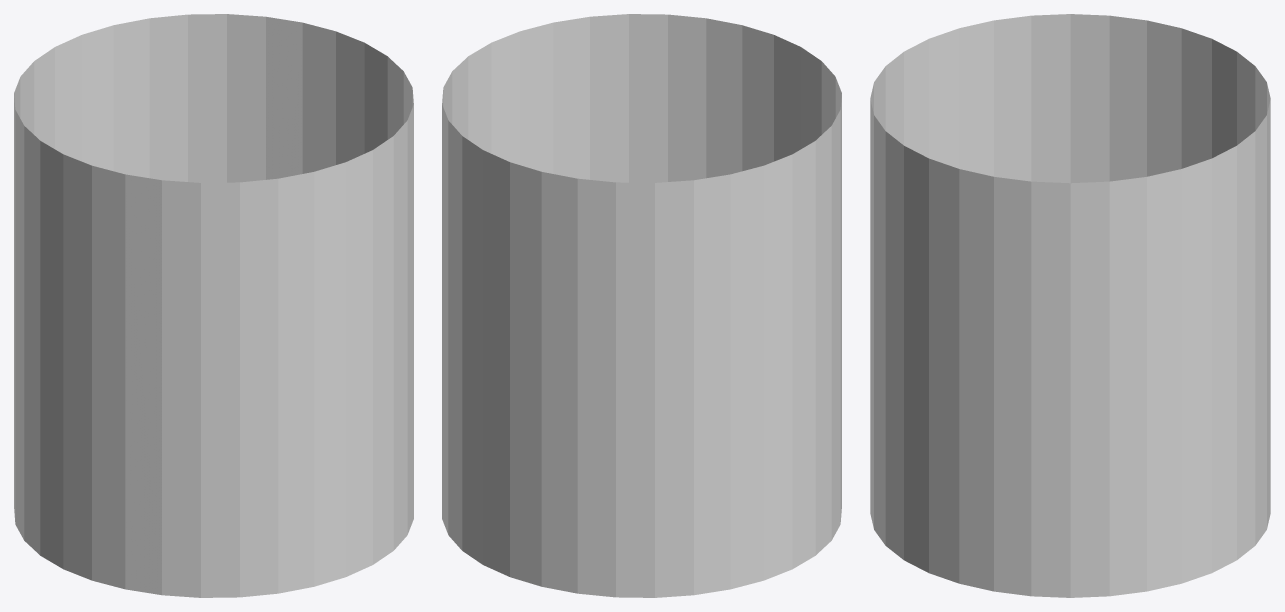
File: glow_cylinder.fbx
3 renders of one model, left to right at view 1: azimuth 30°, elevation 25°; view 2: azimuth 150°, elevation 25°; view 3: azimuth 270°, elevation 25°, orthographic.
Visible parts, largest first — view 1: Glow; view 2: Glow; view 3: Glow.
Boxes of the visible parts, bbox=[...] form: Glow: bbox=[14, 14, 413, 597]; Glow: bbox=[442, 14, 841, 597]; Glow: bbox=[870, 14, 1270, 597].
Bounding box in the file's own units: 70 × 80 × 70.
